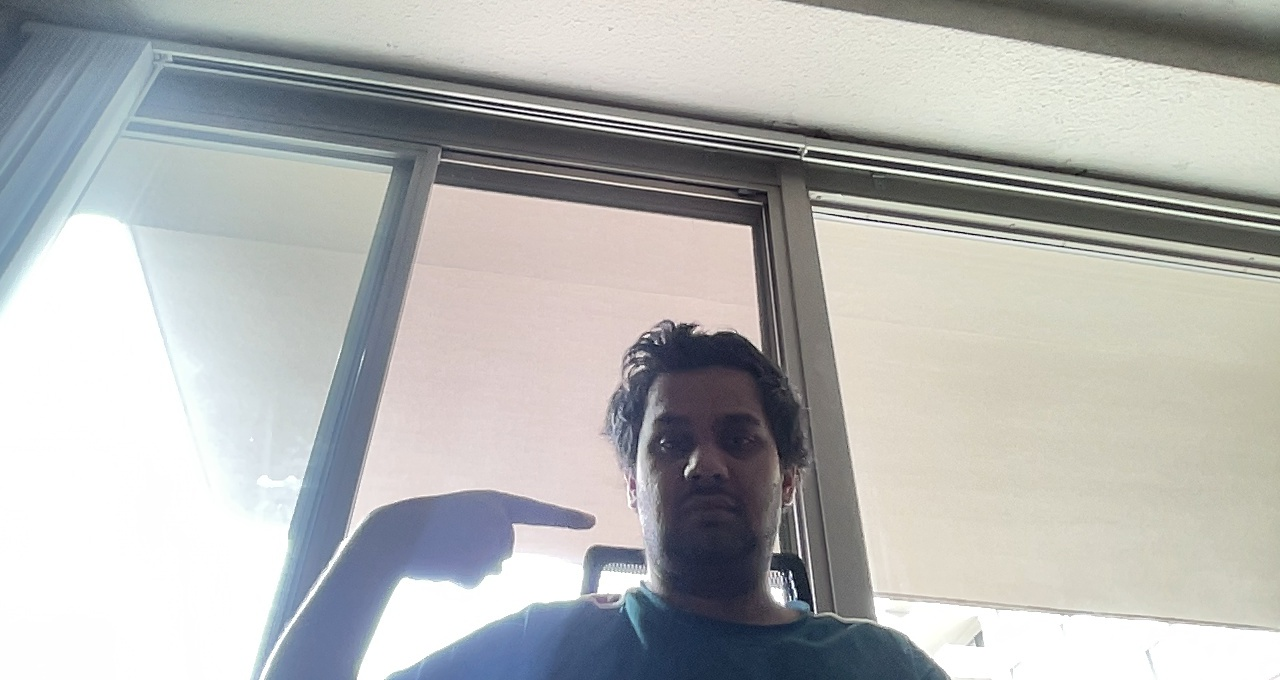fingerleft: (377, 485, 596, 583)
